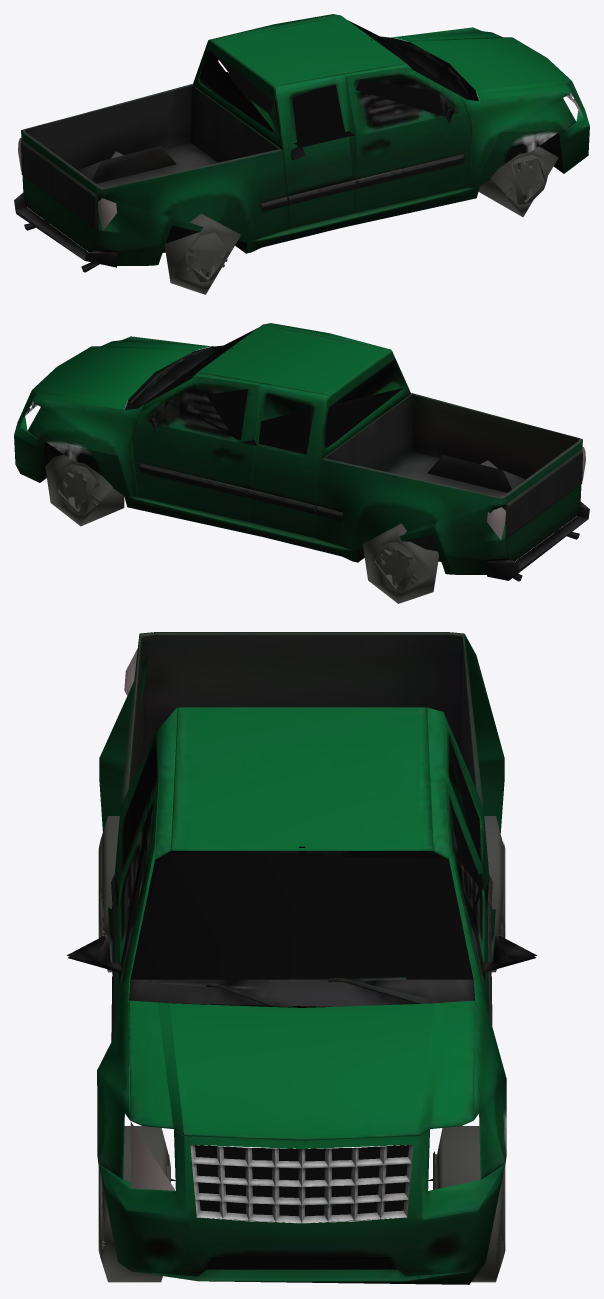
File: pc-pickup.lod1.glb
3 renders of one model, top to bottom at view 1: azimuth 30°, elevation 25°; view 2: azimuth 150°, elevation 25°; view 3: azimuth 270°, elevation 25°, orthographic. The views are drawn at different scales.
Parts seen in each view (by area): view 1: Pickup Body_Body_0, Wheel_E_Wheel_0; view 2: Pickup Body_Body_0, Wheel_E_Wheel_0; view 3: Pickup Body_Body_0, Wheel_E_Wheel_0.
Part boxes in pixels (x1=…): Pickup Body_Body_0: x1=14, y1=14, x2=589, y2=272; Wheel_E_Wheel_0: x1=18, y1=20, x2=582, y2=294; Pickup Body_Body_0: x1=14, y1=323, x2=589, y2=581; Wheel_E_Wheel_0: x1=45, y1=328, x2=585, y2=603; Pickup Body_Body_0: x1=67, y1=632, x2=536, y2=1284; Wheel_E_Wheel_0: x1=98, y1=649, x2=505, y2=1282.
Size of the model in its own units: 5.15 by 1.68 by 2.05.
2 materials, 1 textured.
